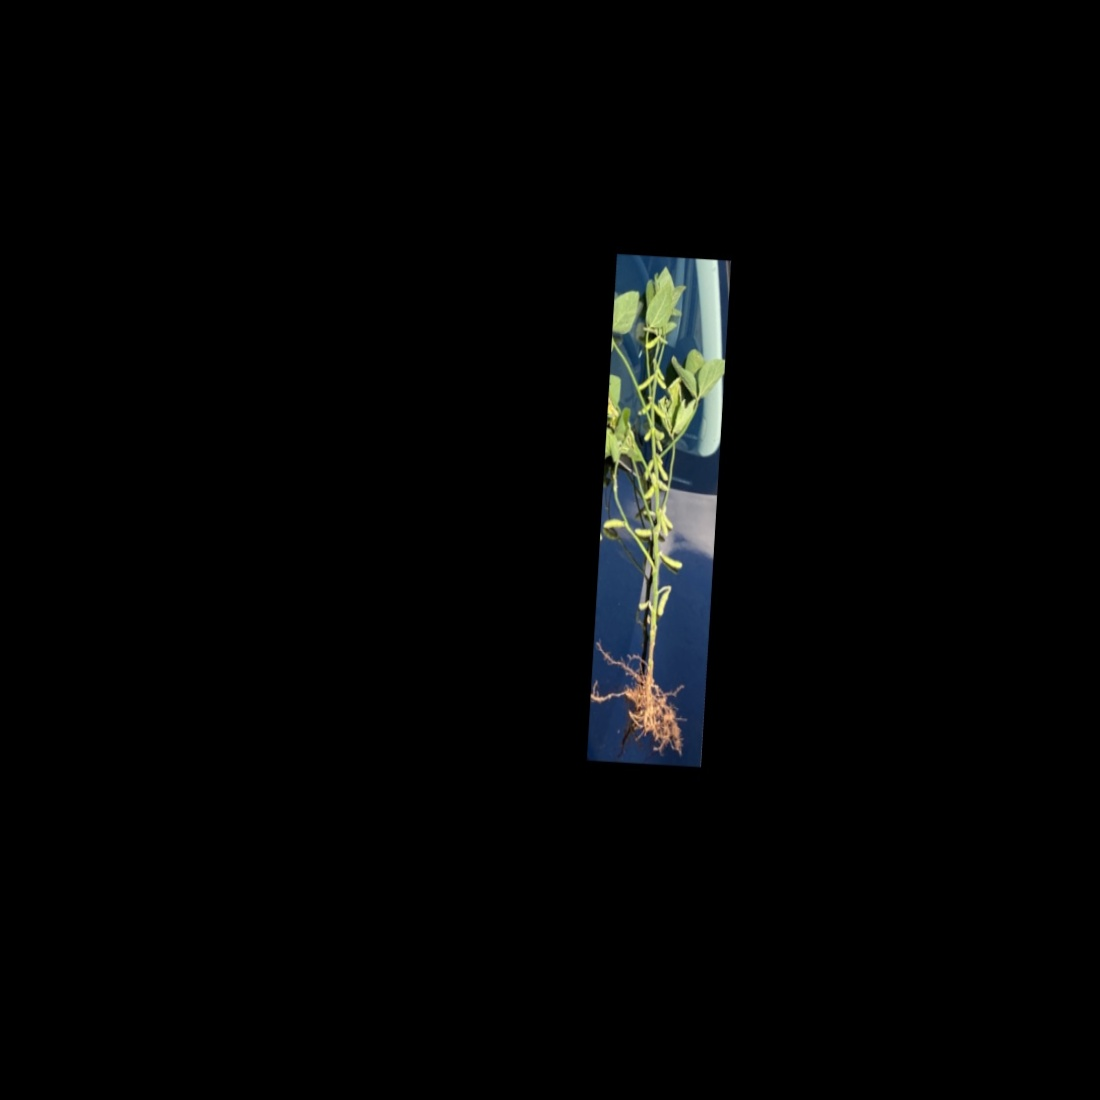pod: (659, 550, 686, 574), (650, 454, 671, 485), (655, 587, 672, 618), (634, 372, 655, 393), (602, 515, 627, 532), (631, 525, 655, 540), (642, 333, 661, 351), (653, 374, 669, 393)
soy: (589, 269, 730, 749)
